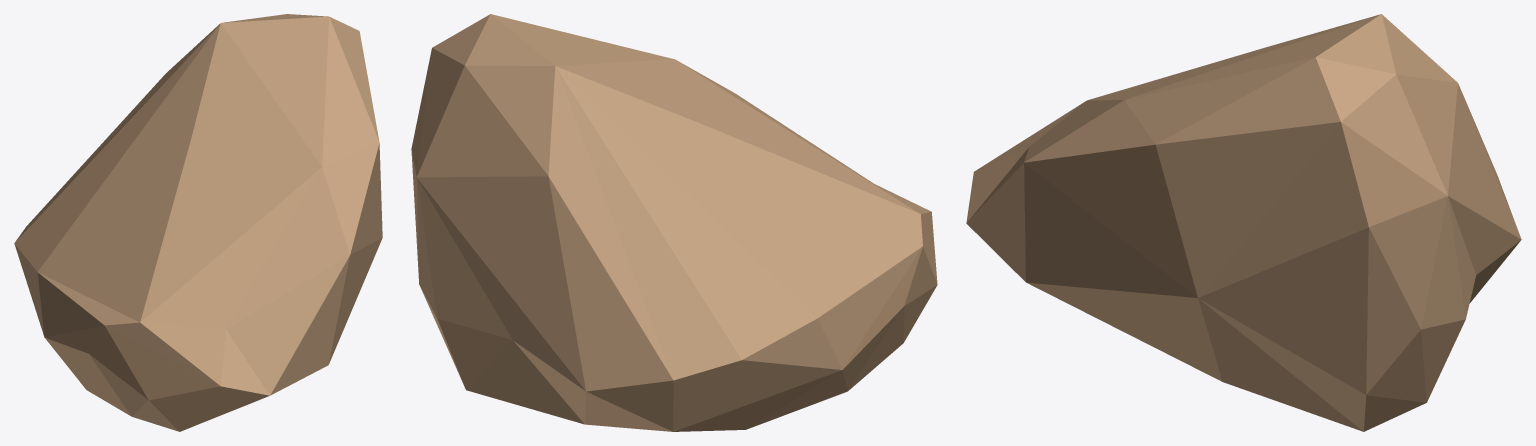
File: Stone_1.fbx
3 views of the same model, side by side, from view 1: azimuth 30°, elevation 25°; view 2: azimuth 150°, elevation 25°; view 3: azimuth 270°, elevation 25° (orthographic). The views are drawn at different scales.
Parts seen in each view (by area): view 1: Stone_1; view 2: Stone_1; view 3: Stone_1.
Boxes of the visible parts, <box> form: Stone_1: <box>14,14,382,431</box>; Stone_1: <box>411,14,937,431</box>; Stone_1: <box>966,14,1521,431</box>.
Bounding box in the file's own units: 437 × 374 × 484.
